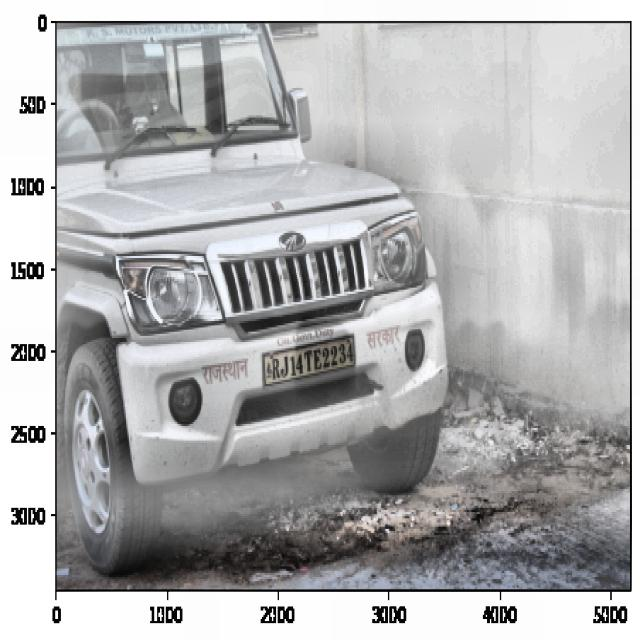license_plate: (269, 332, 356, 385)
